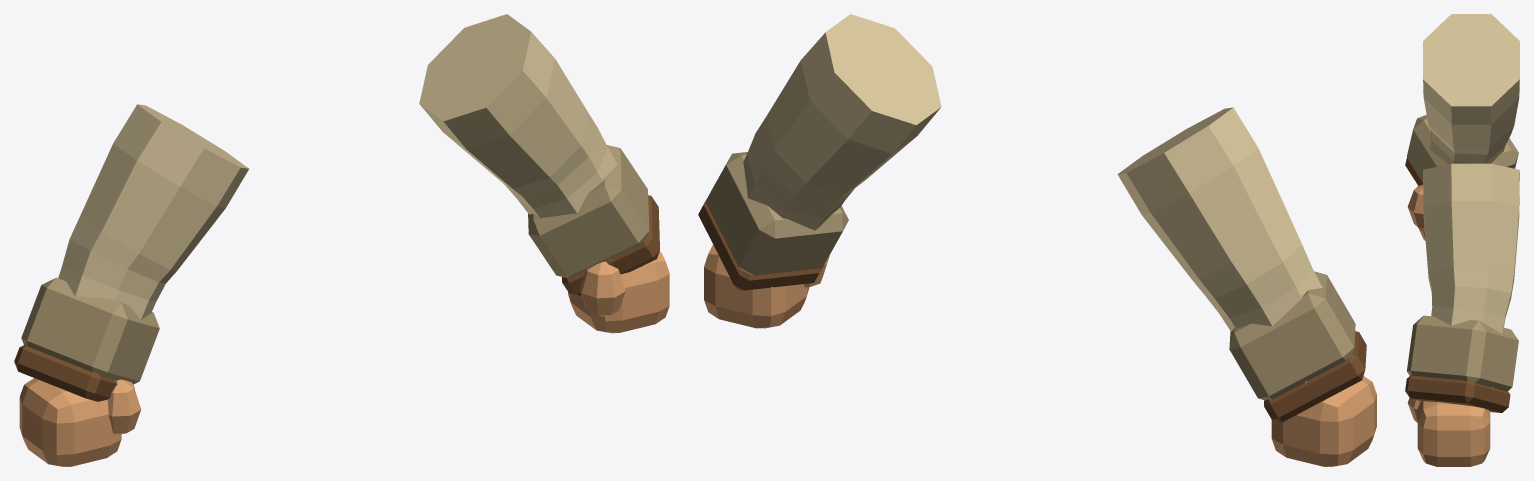
Rendered from SM_NPC_Arms_04_Robe.glb.
3 renders of one model, left to right at view 1: azimuth 30°, elevation 25°; view 2: azimuth 150°, elevation 25°; view 3: azimuth 270°, elevation 25°, orthographic. The views are drawn at different scales.
Parts seen in each view (by area): view 1: SM_NPC_Arms_04_Robe; view 2: SM_NPC_Arms_04_Robe; view 3: SM_NPC_Arms_04_Robe.
Boxes of the visible parts, bbox=[...] form: SM_NPC_Arms_04_Robe: bbox=[14, 14, 669, 466]; SM_NPC_Arms_04_Robe: bbox=[698, 14, 1376, 466]; SM_NPC_Arms_04_Robe: bbox=[1405, 14, 1519, 466].
Bounding box in the file's own units: 1.12 × 0.5243 × 0.2103.
